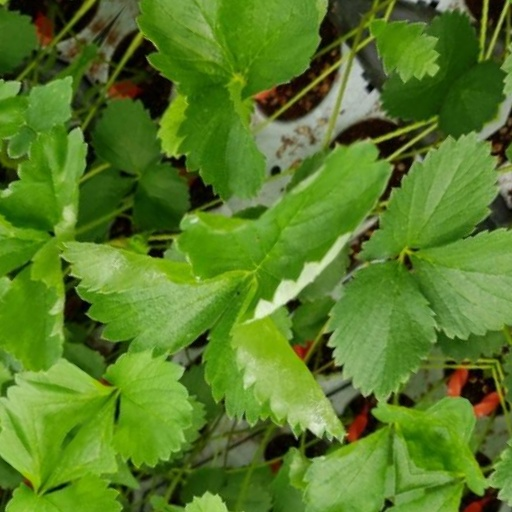Powdery Mildew Leaf: (190, 189, 339, 418), (248, 95, 419, 238), (72, 109, 248, 238), (326, 369, 446, 511), (425, 131, 508, 254)
